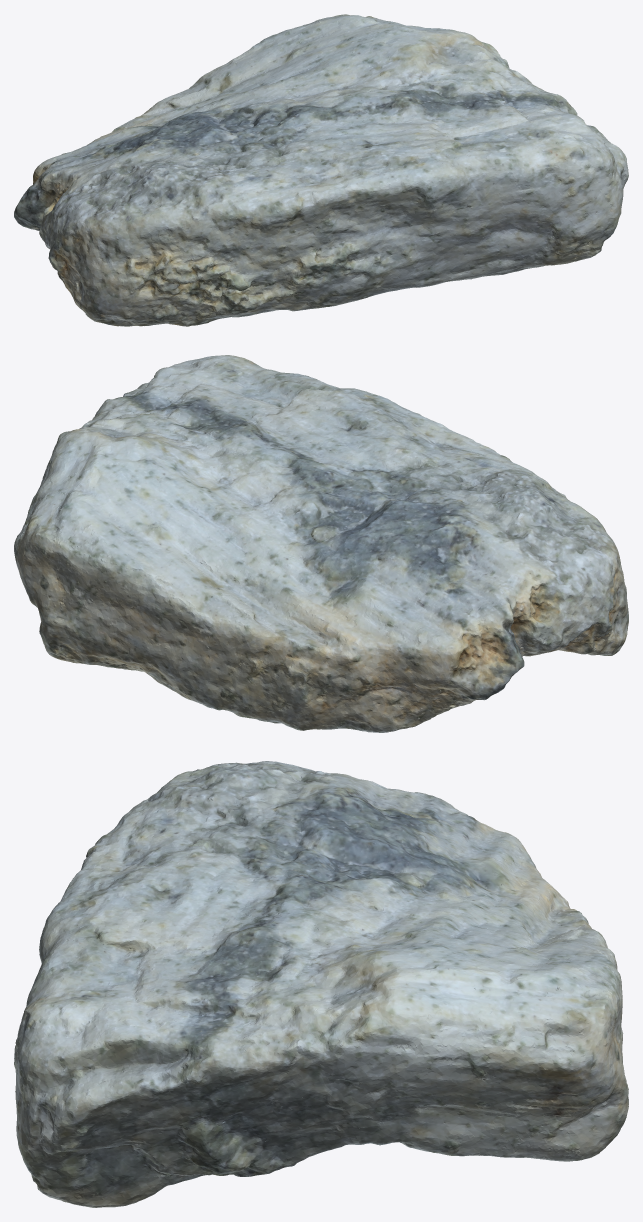
File: Wollastonite.obj
3 renders of one model, top to bottom at view 1: azimuth 30°, elevation 25°; view 2: azimuth 150°, elevation 25°; view 3: azimuth 270°, elevation 25°, orthographic. The views are drawn at different scales.
Parts seen in each view (by area): view 1: default; view 2: default; view 3: default.
Part boxes in pixels (x1,y1,x2,y2): default: (14, 14, 628, 326); default: (14, 355, 628, 732); default: (14, 761, 628, 1207).
Size of the model in its own units: 46.81 by 14.67 by 35.32.
